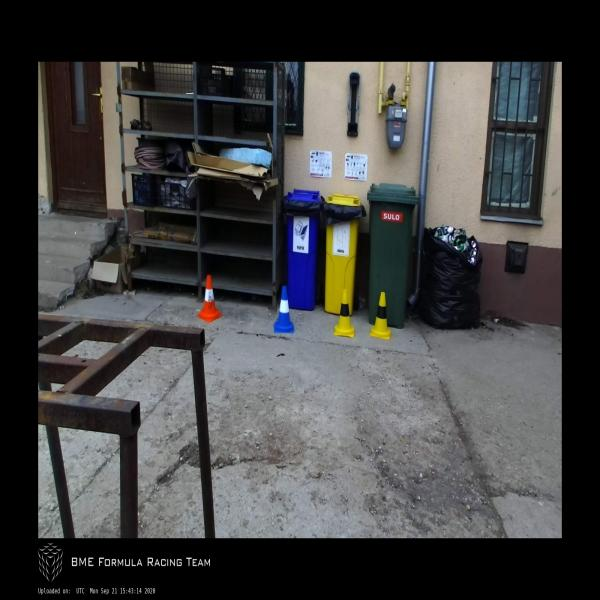blue_cone: (274, 286, 294, 333)
orange_cone: (197, 275, 222, 323)
yellow_cone: (369, 292, 391, 340), (334, 290, 355, 338)
